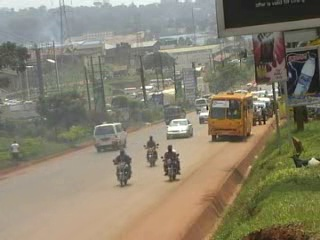Car: (164, 116, 195, 140), (197, 103, 212, 125)
Motorcycle: (110, 145, 134, 188), (159, 141, 183, 183), (142, 131, 160, 169)
